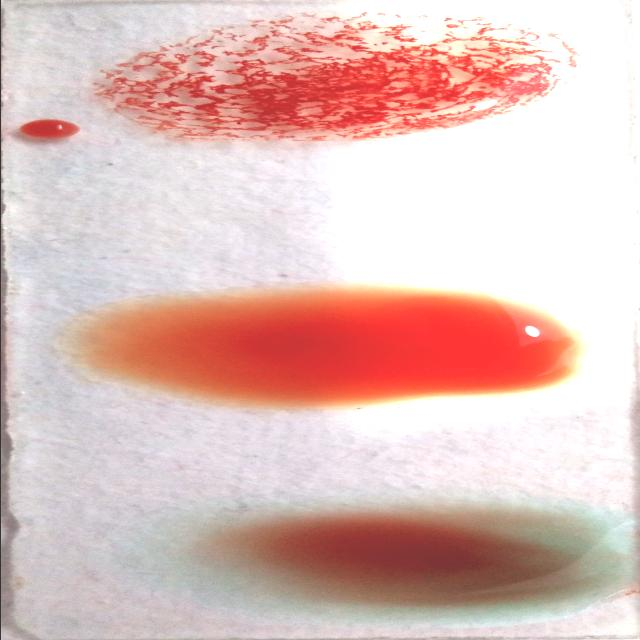D: (100, 21, 594, 141)
